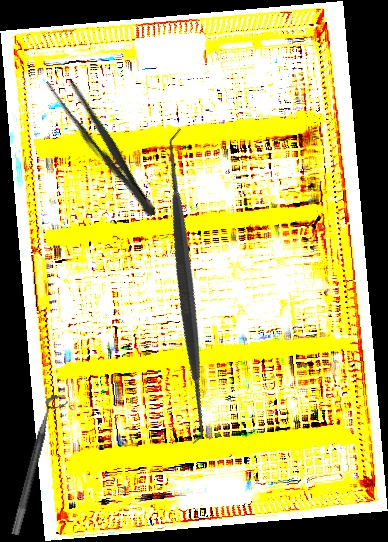Dressing Forceps: (42, 68, 166, 223)
Fixation Ring: (10, 393, 69, 539)
Spatula Surgical: (26, 126, 347, 446)
